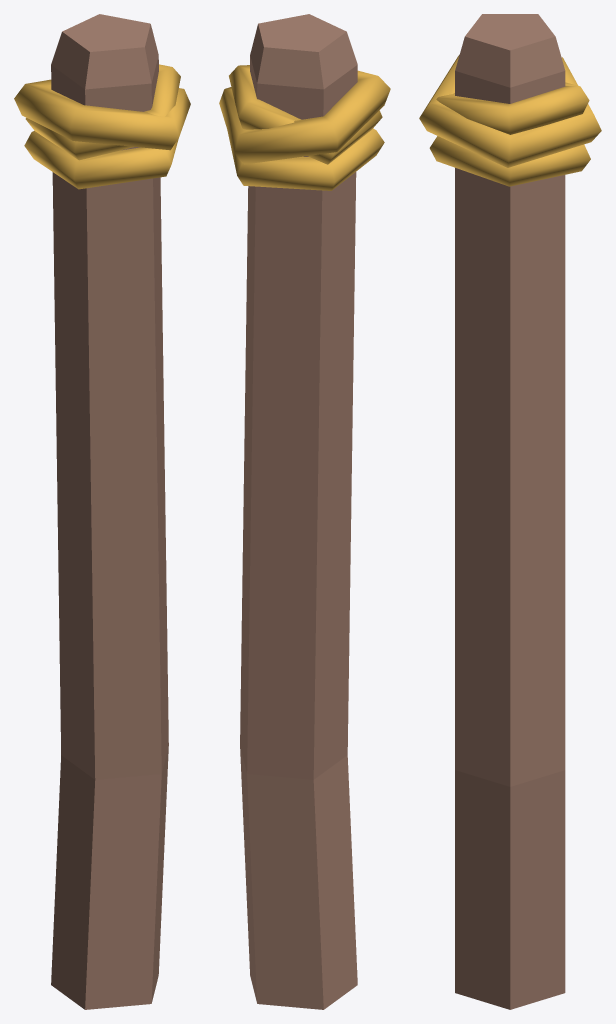
The model's file is StickWithRope.fbx.
3 renders of one model, left to right at view 1: azimuth 30°, elevation 25°; view 2: azimuth 150°, elevation 25°; view 3: azimuth 270°, elevation 25°, orthographic.
Parts seen in each view (by area): view 1: SM_Prop_Fence_Stick_01; view 2: SM_Prop_Fence_Stick_01; view 3: SM_Prop_Fence_Stick_01.
Part boxes in pixels (bbox=[...]): SM_Prop_Fence_Stick_01: bbox=[14, 14, 190, 1009]; SM_Prop_Fence_Stick_01: bbox=[219, 14, 390, 1009]; SM_Prop_Fence_Stick_01: bbox=[419, 14, 601, 1009].
Bounding box in the file's own units: 19.12 × 118 × 20.43.
